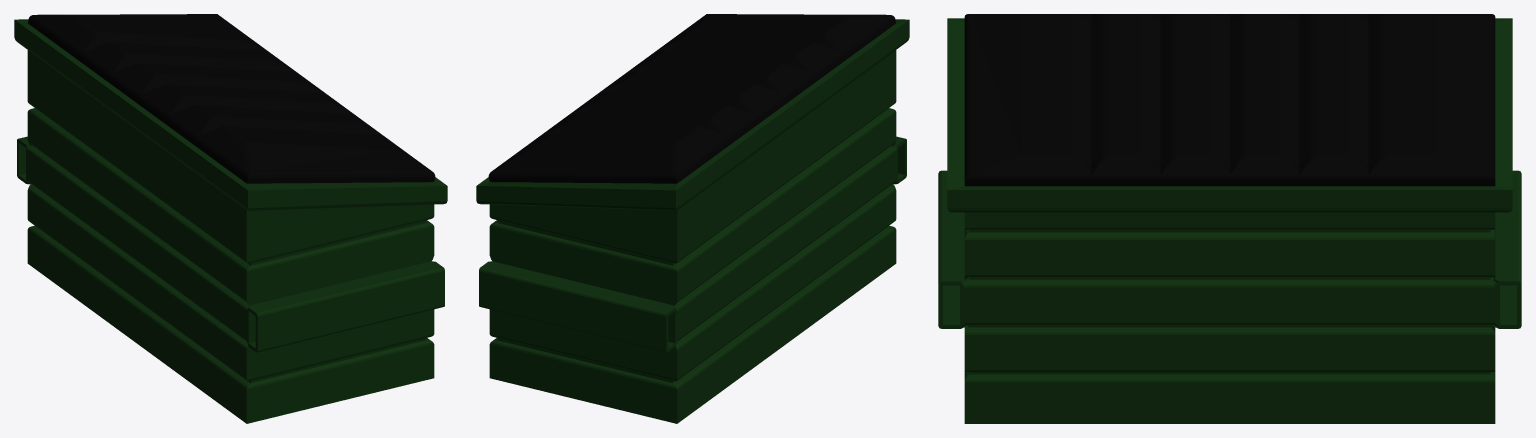
File: dumpster.fbx
The picture shows the model from 3 angles, left to right: view 1: azimuth 30°, elevation 25°; view 2: azimuth 150°, elevation 25°; view 3: azimuth 270°, elevation 25°; orthographic projection. The views are drawn at different scales.
Parts seen in each view (by area): view 1: Cube, Cube.001; view 2: Cube, Cube.001; view 3: Cube, Cube.001.
Part boxes in pixels (x1,y1,x2,y2): Cube: (14,19,447,423); Cube.001: (28,14,435,183); Cube: (476,19,909,423); Cube.001: (488,14,895,183); Cube: (938,18,1521,423); Cube.001: (964,14,1495,186).
Size of the model in its own units: 213 by 264 by 445.
